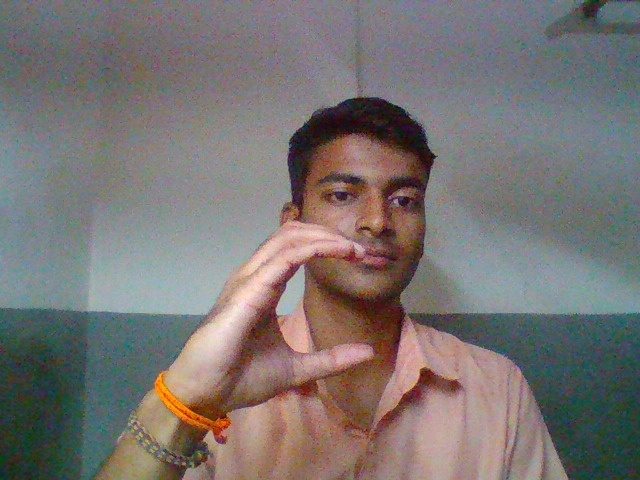C: (164, 213, 384, 409)
